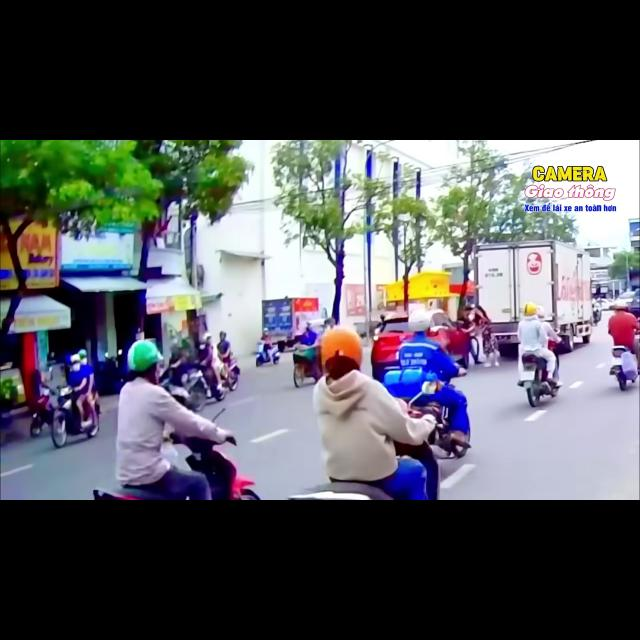car: (371, 313, 412, 381), (616, 290, 637, 305), (629, 289, 639, 318)
motorcycle: (384, 368, 470, 458), (170, 432, 259, 499), (408, 380, 470, 458), (395, 421, 445, 499), (51, 386, 100, 447), (517, 352, 559, 407), (161, 366, 210, 411), (289, 482, 393, 499), (30, 384, 55, 437), (610, 346, 638, 390), (220, 357, 240, 390), (256, 341, 279, 366), (592, 307, 601, 325)
truck: (474, 240, 592, 353), (262, 298, 320, 351)
